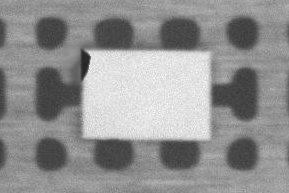DIE_BROKEN: (117, 31, 139, 57)
